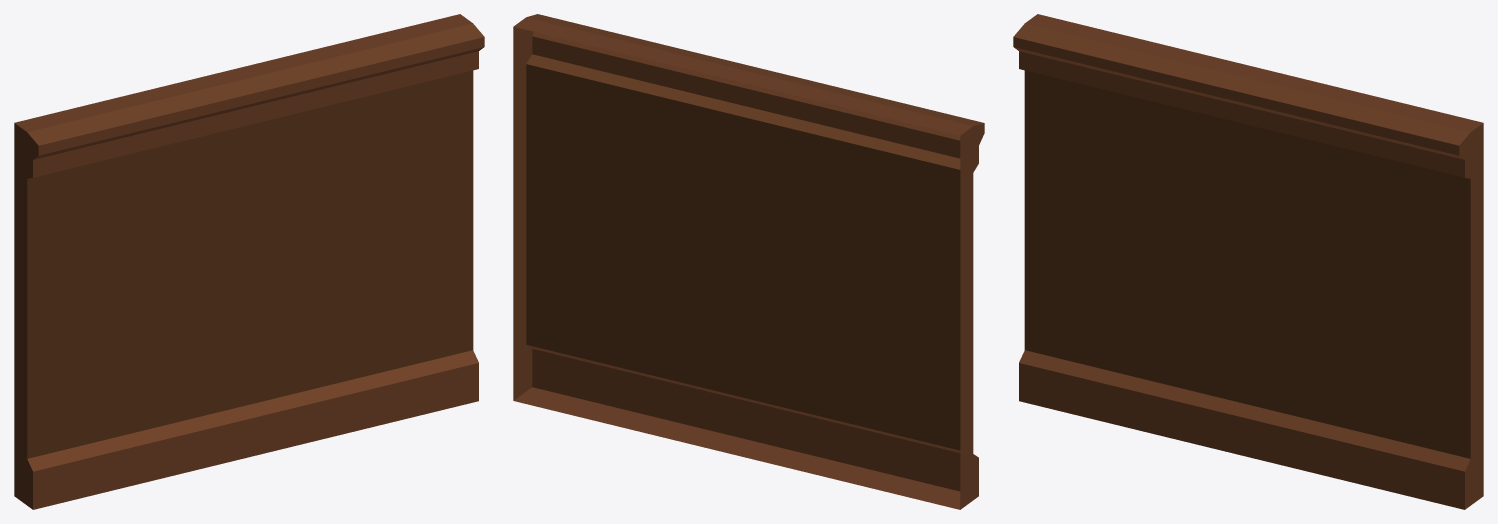
File: prop_wall_trim_floor_variant_1m 1.fbx
The picture shows the model from 3 angles, left to right: view 1: azimuth 30°, elevation 25°; view 2: azimuth 150°, elevation 25°; view 3: azimuth 330°, elevation 25°; orthographic projection.
Visible parts, largest first — view 1: prop_wall_trim_floor_1m; view 2: prop_wall_trim_floor_1m; view 3: prop_wall_trim_floor_1m.
Part boxes in pixels (bbox=[...]): prop_wall_trim_floor_1m: bbox=[14, 14, 484, 509]; prop_wall_trim_floor_1m: bbox=[513, 14, 984, 509]; prop_wall_trim_floor_1m: bbox=[1013, 14, 1483, 509].
Bounding box in the file's own units: 100 × 80 × 9.46.
